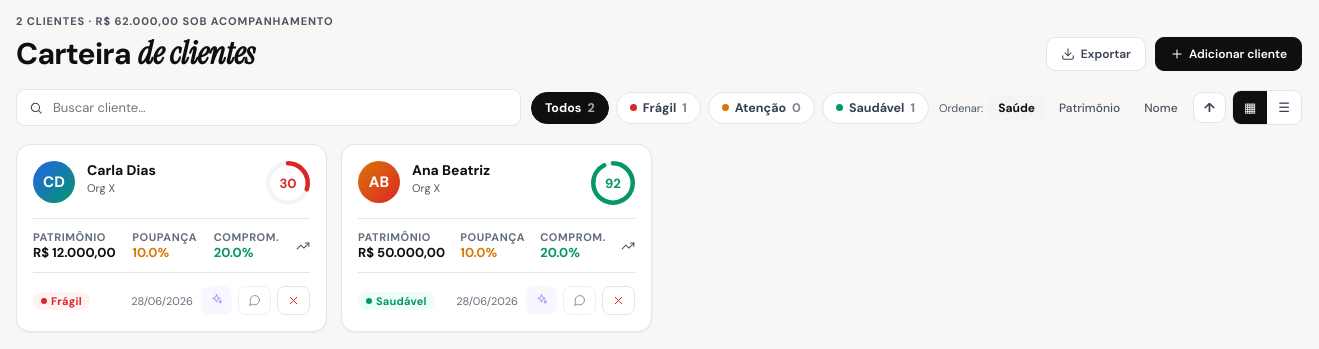
Scenario: ConsultantClientsPage › mostra estado sem-resultado quando o filtro não casa
This screenshot has width=1319, height=349.
Check: the text "Ana Beatriz" is shown, box [412,161,490,179]
In the search field labelled "Buscar cliente": (280, 108) [51,98,508,117], type "zzz"
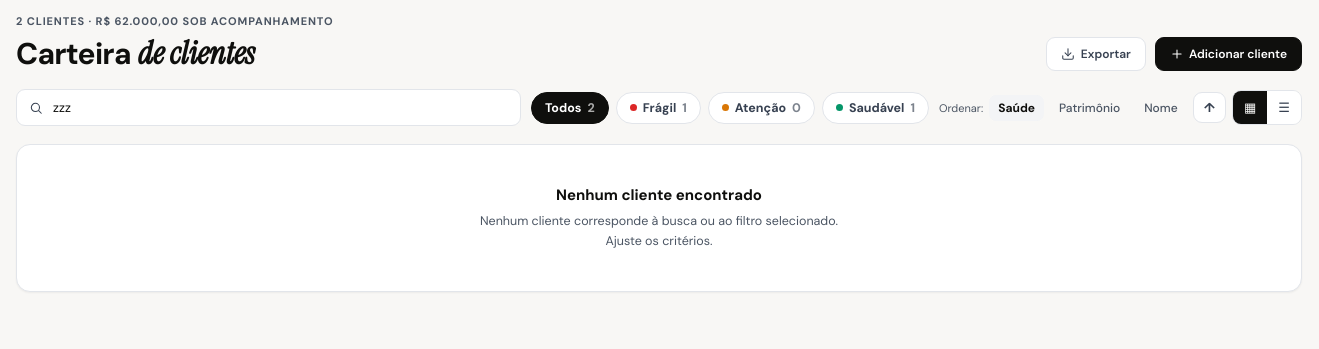
Check: the text "Nenhum cliente encontrado" is shown, box [556,185,762,205]
